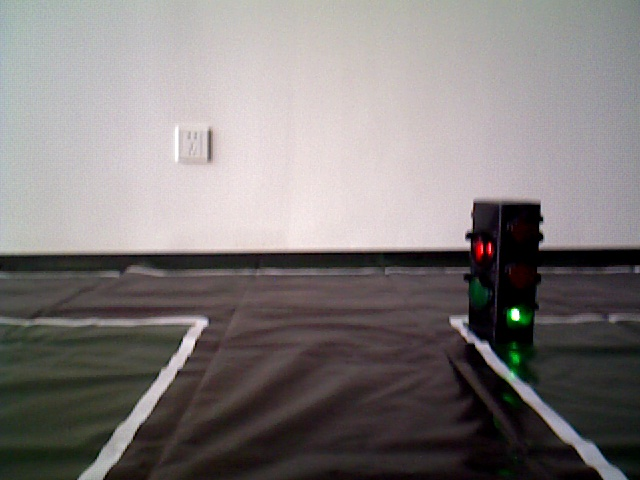green: (473, 202, 532, 347)
